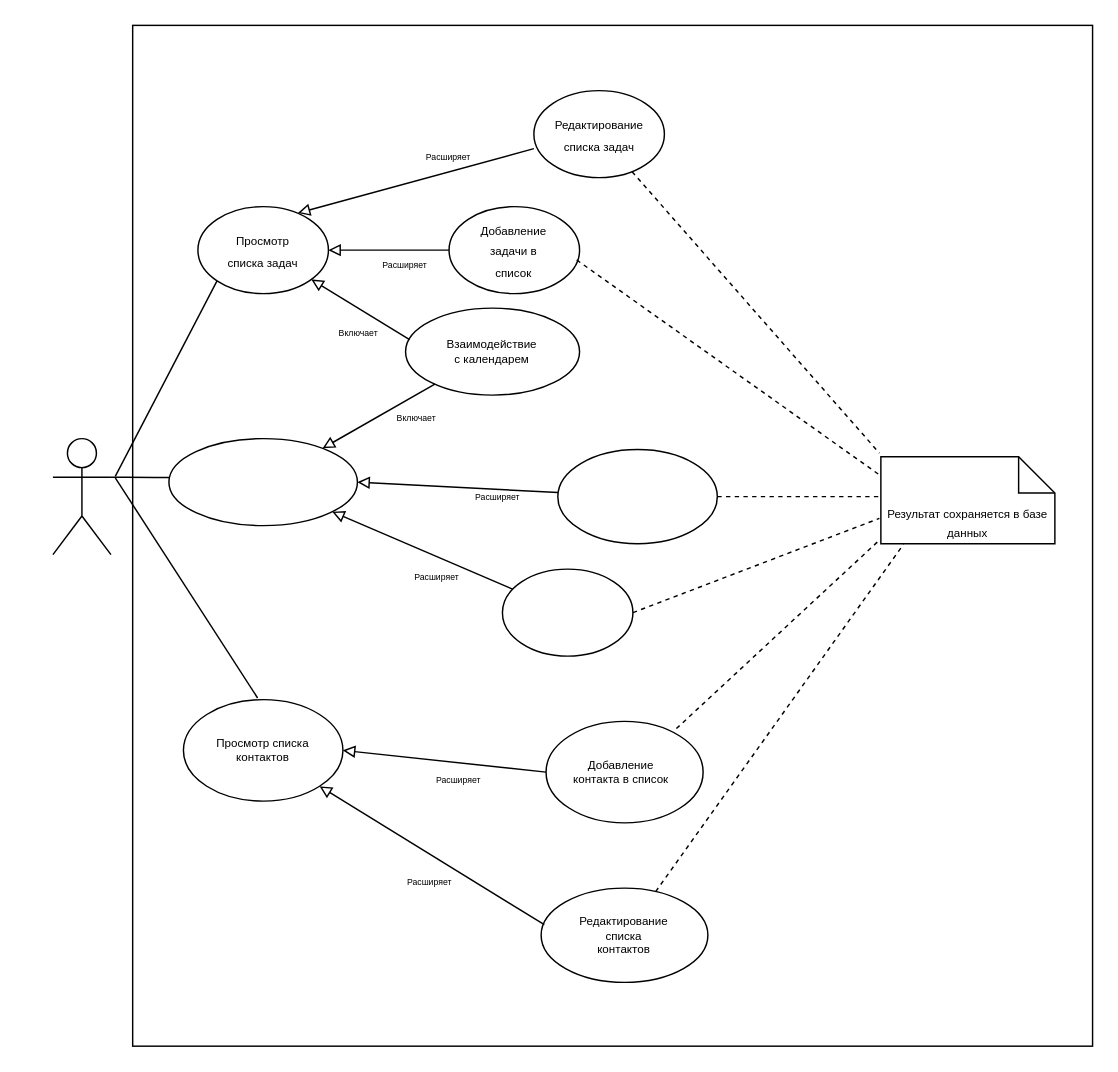
Image size: 1118x1072. Some labels were removed from this diagram. Each missing label, with the box of its shape:
Добавление элементов в таблицу расписания: (556, 448, 717, 544)
Пользователь: (51, 437, 111, 555)
Просмотр таблицы раcписания: (167, 437, 357, 526)
Редактирование таблицы расписания: (501, 568, 633, 656)
